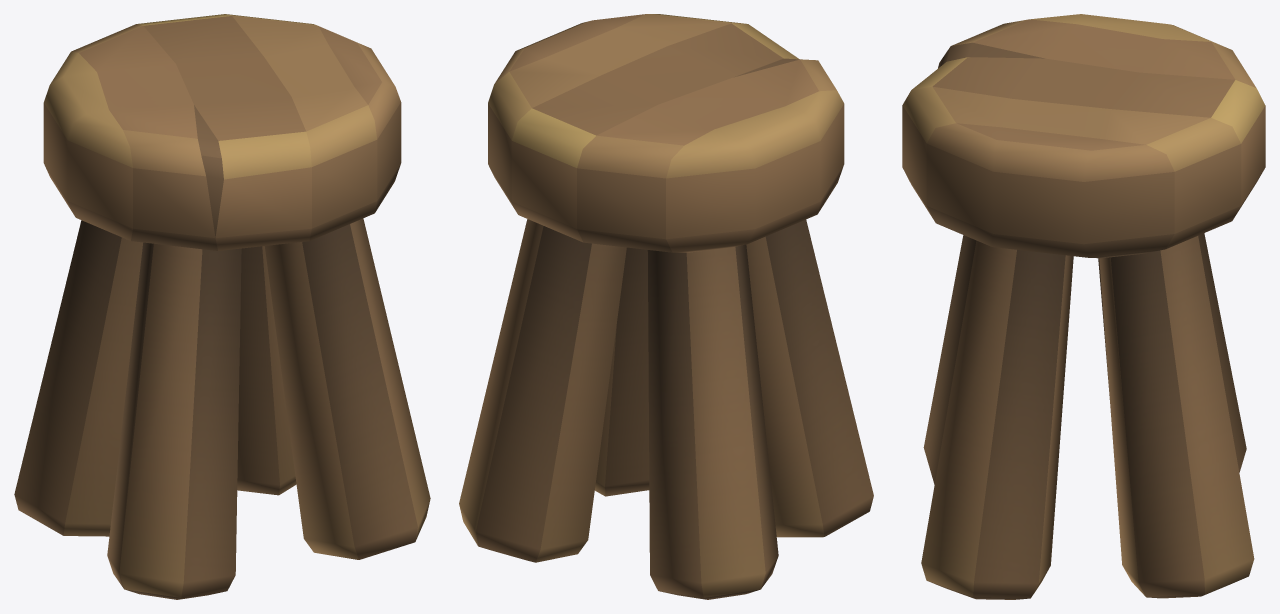
File: tavern_bar_chair.fbx
3 renders of one model, left to right at view 1: azimuth 30°, elevation 25°; view 2: azimuth 150°, elevation 25°; view 3: azimuth 270°, elevation 25°, orthographic.
Visible parts, largest first — view 1: tavern_bar_chair_LOD0; view 2: tavern_bar_chair_LOD0; view 3: tavern_bar_chair_LOD0.
Boxes of the visible parts, box(x1,y1,x2,y2) form: tavern_bar_chair_LOD0: box(14, 14, 430, 599); tavern_bar_chair_LOD0: box(459, 14, 873, 599); tavern_bar_chair_LOD0: box(902, 14, 1265, 599).
Size of what is drawn, in the model's own units: 56.72 by 79.68 by 56.54.
